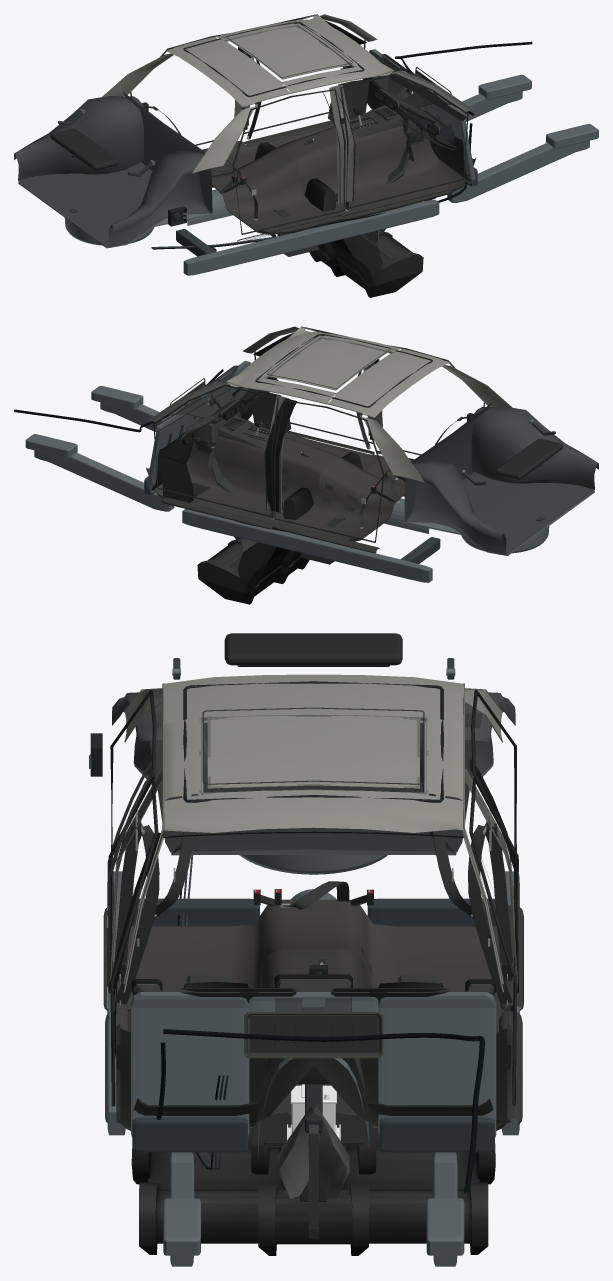
3 renders of one model, top to bottom at view 1: azimuth 30°, elevation 25°; view 2: azimuth 150°, elevation 25°; view 3: azimuth 270°, elevation 25°, orthographic. The views are drawn at different scales.
Visible parts, largest first — view 1: e34sys_cabin-carpet_floor, e34sys_headliner_roof, e34trim_trunk_liner_left_fitted, e34trim_rear-carpet_floor, e34trim_luggage_floor_carpet_fitted, e34sys_sill--1_cabinfitted, e34trim_trunk_liner_right_fitted, e34trim_sunroof_liner_roof, e34sys_chassis-rail--1_cabinfitted, e34sys_rear-seat-cushion_6b4c83fb_cushion, e34trim_luggage_front_liner_fitted, e34sys_chassis-rail-1_cabinfitted (+25 smaller); view 2: e34sys_cabin-carpet_floor, e34sys_headliner_roof, e34trim_trunk_liner_right_fitted, e34trim_rear-carpet_floor, e34trim_luggage_floor_carpet_fitted, e34sys_sill-1_cabinfitted, e34trim_trunk_liner_left_fitted, e34trim_sunroof_liner_roof, e34sys_chassis-rail-1_cabinfitted, e34sys_rear-seat-cushion_6b4c83fb_cushion, e34trim_luggage_front_liner_fitted, e34trim_b-pillar-left_detail (+26 smaller); view 3: e34sys_firewall_cabinfitted, e34sys_headliner_roof, e34trim_rear-carpet_floor, e34trim_sunroof_liner_roof, e34sys_rear-seat-cushion_6b4c83fb_cushion, e34sys_rear-seat-cushion_6b4c83fb_backrest, e34trim_luggage_front_liner_fitted, e34hvac_bulkhead-liner_detail, e34sys_cabin-carpet_floor, e34trim_trunk_lid_inner_opening, e34hvac_heater-access-panel_detail, e34sys_sill--1_cabinfitted (+36 smaller).
Part boxes in pixels (x1,y1,x2,y2): e34sys_cabin-carpet_floor: [237, 109, 476, 221]; e34sys_headliner_roof: [166, 14, 394, 107]; e34trim_trunk_liner_left_fitted: [14, 96, 143, 181]; e34trim_rear-carpet_floor: [211, 148, 337, 234]; e34trim_luggage_floor_carpet_fitted: [18, 162, 210, 246]; e34sys_sill--1_cabinfitted: [176, 199, 439, 275]; e34trim_trunk_liner_right_fitted: [108, 150, 221, 247]; e34trim_sunroof_liner_roof: [228, 26, 350, 79]; e34sys_chassis-rail--1_cabinfitted: [447, 124, 598, 202]; e34sys_rear-seat-cushion_6b4c83fb_cushion: [336, 229, 423, 297]; e34trim_luggage_front_liner_fitted: [122, 91, 212, 213]; e34sys_chassis-rail-1_cabinfitted: [453, 74, 531, 121]; e34sys_cabin-carpet_floor: [146, 420, 380, 528]; e34sys_headliner_roof: [226, 326, 449, 418]; e34trim_trunk_liner_right_fitted: [471, 406, 598, 490]; e34trim_rear-carpet_floor: [290, 456, 405, 541]; e34trim_luggage_floor_carpet_fitted: [404, 472, 594, 554]; e34sys_sill-1_cabinfitted: [182, 509, 440, 582]; e34trim_trunk_liner_left_fitted: [395, 460, 506, 554]; e34trim_sunroof_liner_roof: [269, 338, 388, 390]; e34sys_chassis-rail-1_cabinfitted: [25, 434, 174, 511]; e34sys_rear-seat-cushion_6b4c83fb_cushion: [197, 537, 282, 604]; e34trim_luggage_front_liner_fitted: [404, 402, 492, 521]; e34trim_b-pillar-left_detail: [264, 398, 297, 513]; e34sys_firewall_cabinfitted: [131, 992, 496, 1152]; e34sys_headliner_roof: [162, 674, 464, 832]; e34trim_rear-carpet_floor: [116, 899, 509, 1012]; e34trim_sunroof_liner_roof: [207, 715, 419, 788]; e34sys_rear-seat-cushion_6b4c83fb_cushion: [139, 1181, 488, 1254]; e34sys_rear-seat-cushion_6b4c83fb_backrest: [131, 1128, 495, 1190]; e34trim_luggage_front_liner_fitted: [145, 712, 482, 852]; e34hvac_bulkhead-liner_detail: [116, 1024, 511, 1127]; e34sys_cabin-carpet_floor: [116, 949, 511, 1130]; e34trim_trunk_lid_inner_opening: [224, 633, 402, 666]; e34hvac_heater-access-panel_detail: [245, 1014, 381, 1056]; e34sys_sill--1_cabinfitted: [107, 871, 259, 1135].
Size of the model in its own units: 4.29 by 1.86 by 1.62.
67 materials, 1 textured.
